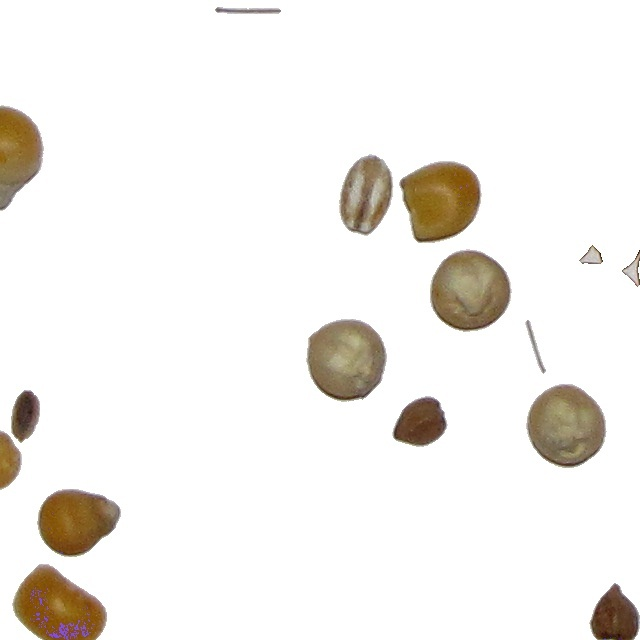buckwheat: (588, 582, 640, 640)
dill: (524, 319, 547, 375), (214, 6, 282, 15)
mais: (11, 563, 108, 640), (398, 160, 483, 244), (429, 248, 513, 333), (525, 383, 608, 469), (305, 318, 388, 403), (36, 488, 122, 558)
other: (338, 153, 395, 237), (391, 395, 449, 448), (10, 389, 41, 444), (621, 253, 640, 288), (578, 244, 604, 265), (636, 240, 640, 259)
